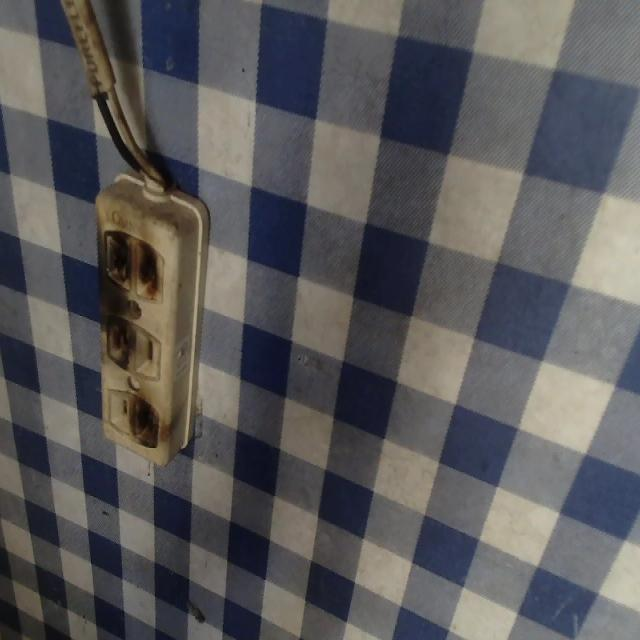-: (99, 222, 164, 302), (103, 312, 136, 371), (128, 394, 160, 449)
